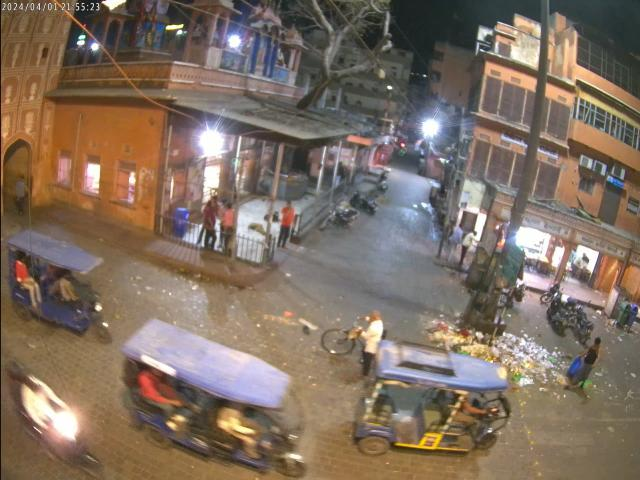auto: (116, 316, 308, 476), (354, 341, 510, 456), (6, 234, 110, 345)
bicycle-rider: (319, 308, 386, 371)
motorbike: (572, 304, 594, 345)
person: (568, 335, 604, 397), (202, 194, 218, 244), (278, 200, 294, 244)
scooty: (547, 292, 567, 334)
